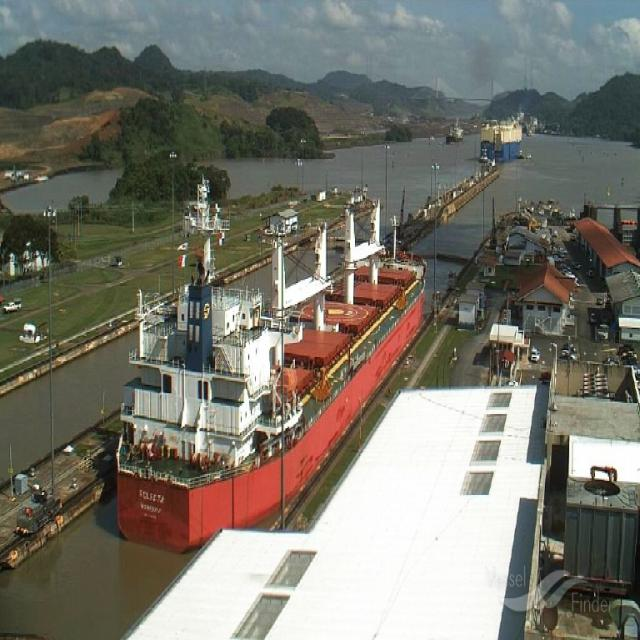OCR: (132, 482, 170, 524)
